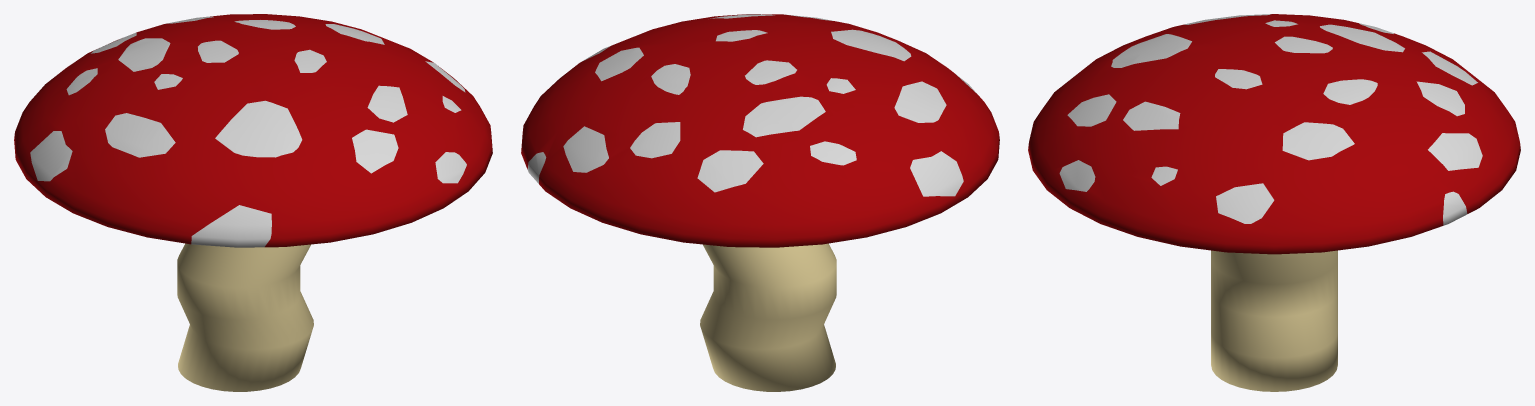
The model's file is Sporeshroom.fbx.
3 views of the same model, side by side, from view 1: azimuth 30°, elevation 25°; view 2: azimuth 150°, elevation 25°; view 3: azimuth 270°, elevation 25° (orthographic). The views are drawn at different scales.
Visible parts, largest first — view 1: Circle; view 2: Circle; view 3: Circle.
Part boxes in pixels (box(x1,y1,x2,y2)): Circle: box(14, 14, 492, 391); Circle: box(521, 14, 999, 391); Circle: box(1028, 14, 1520, 391).
Size of the model in its own units: 6.73 by 4.77 by 6.73.
